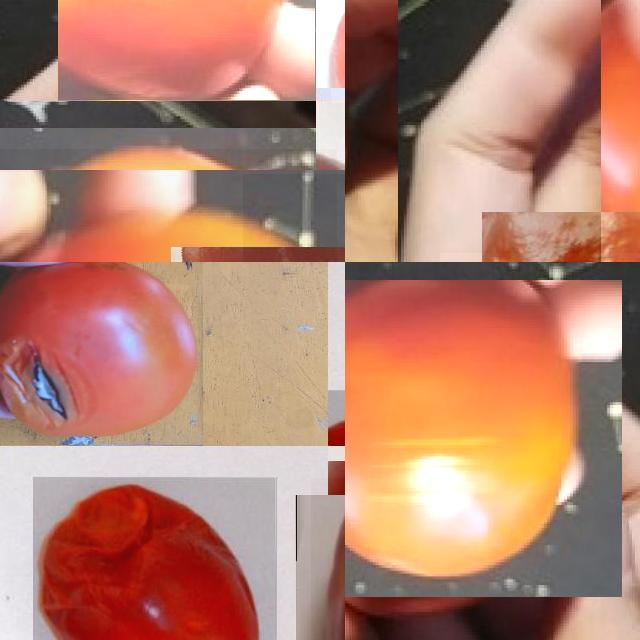Fresh Tomato: (0, 149, 337, 262)
Rotten Tomato: (345, 280, 622, 597), (33, 476, 276, 640), (0, 262, 203, 446), (58, 0, 316, 101)
